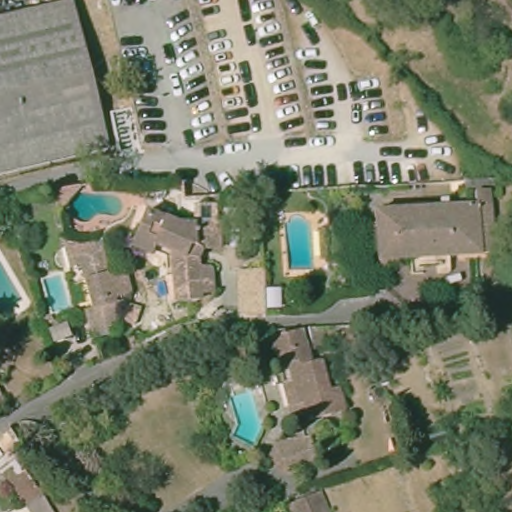pool: (218, 377, 268, 447), (279, 211, 324, 280), (64, 185, 128, 229), (1, 243, 32, 316), (40, 269, 76, 316)
